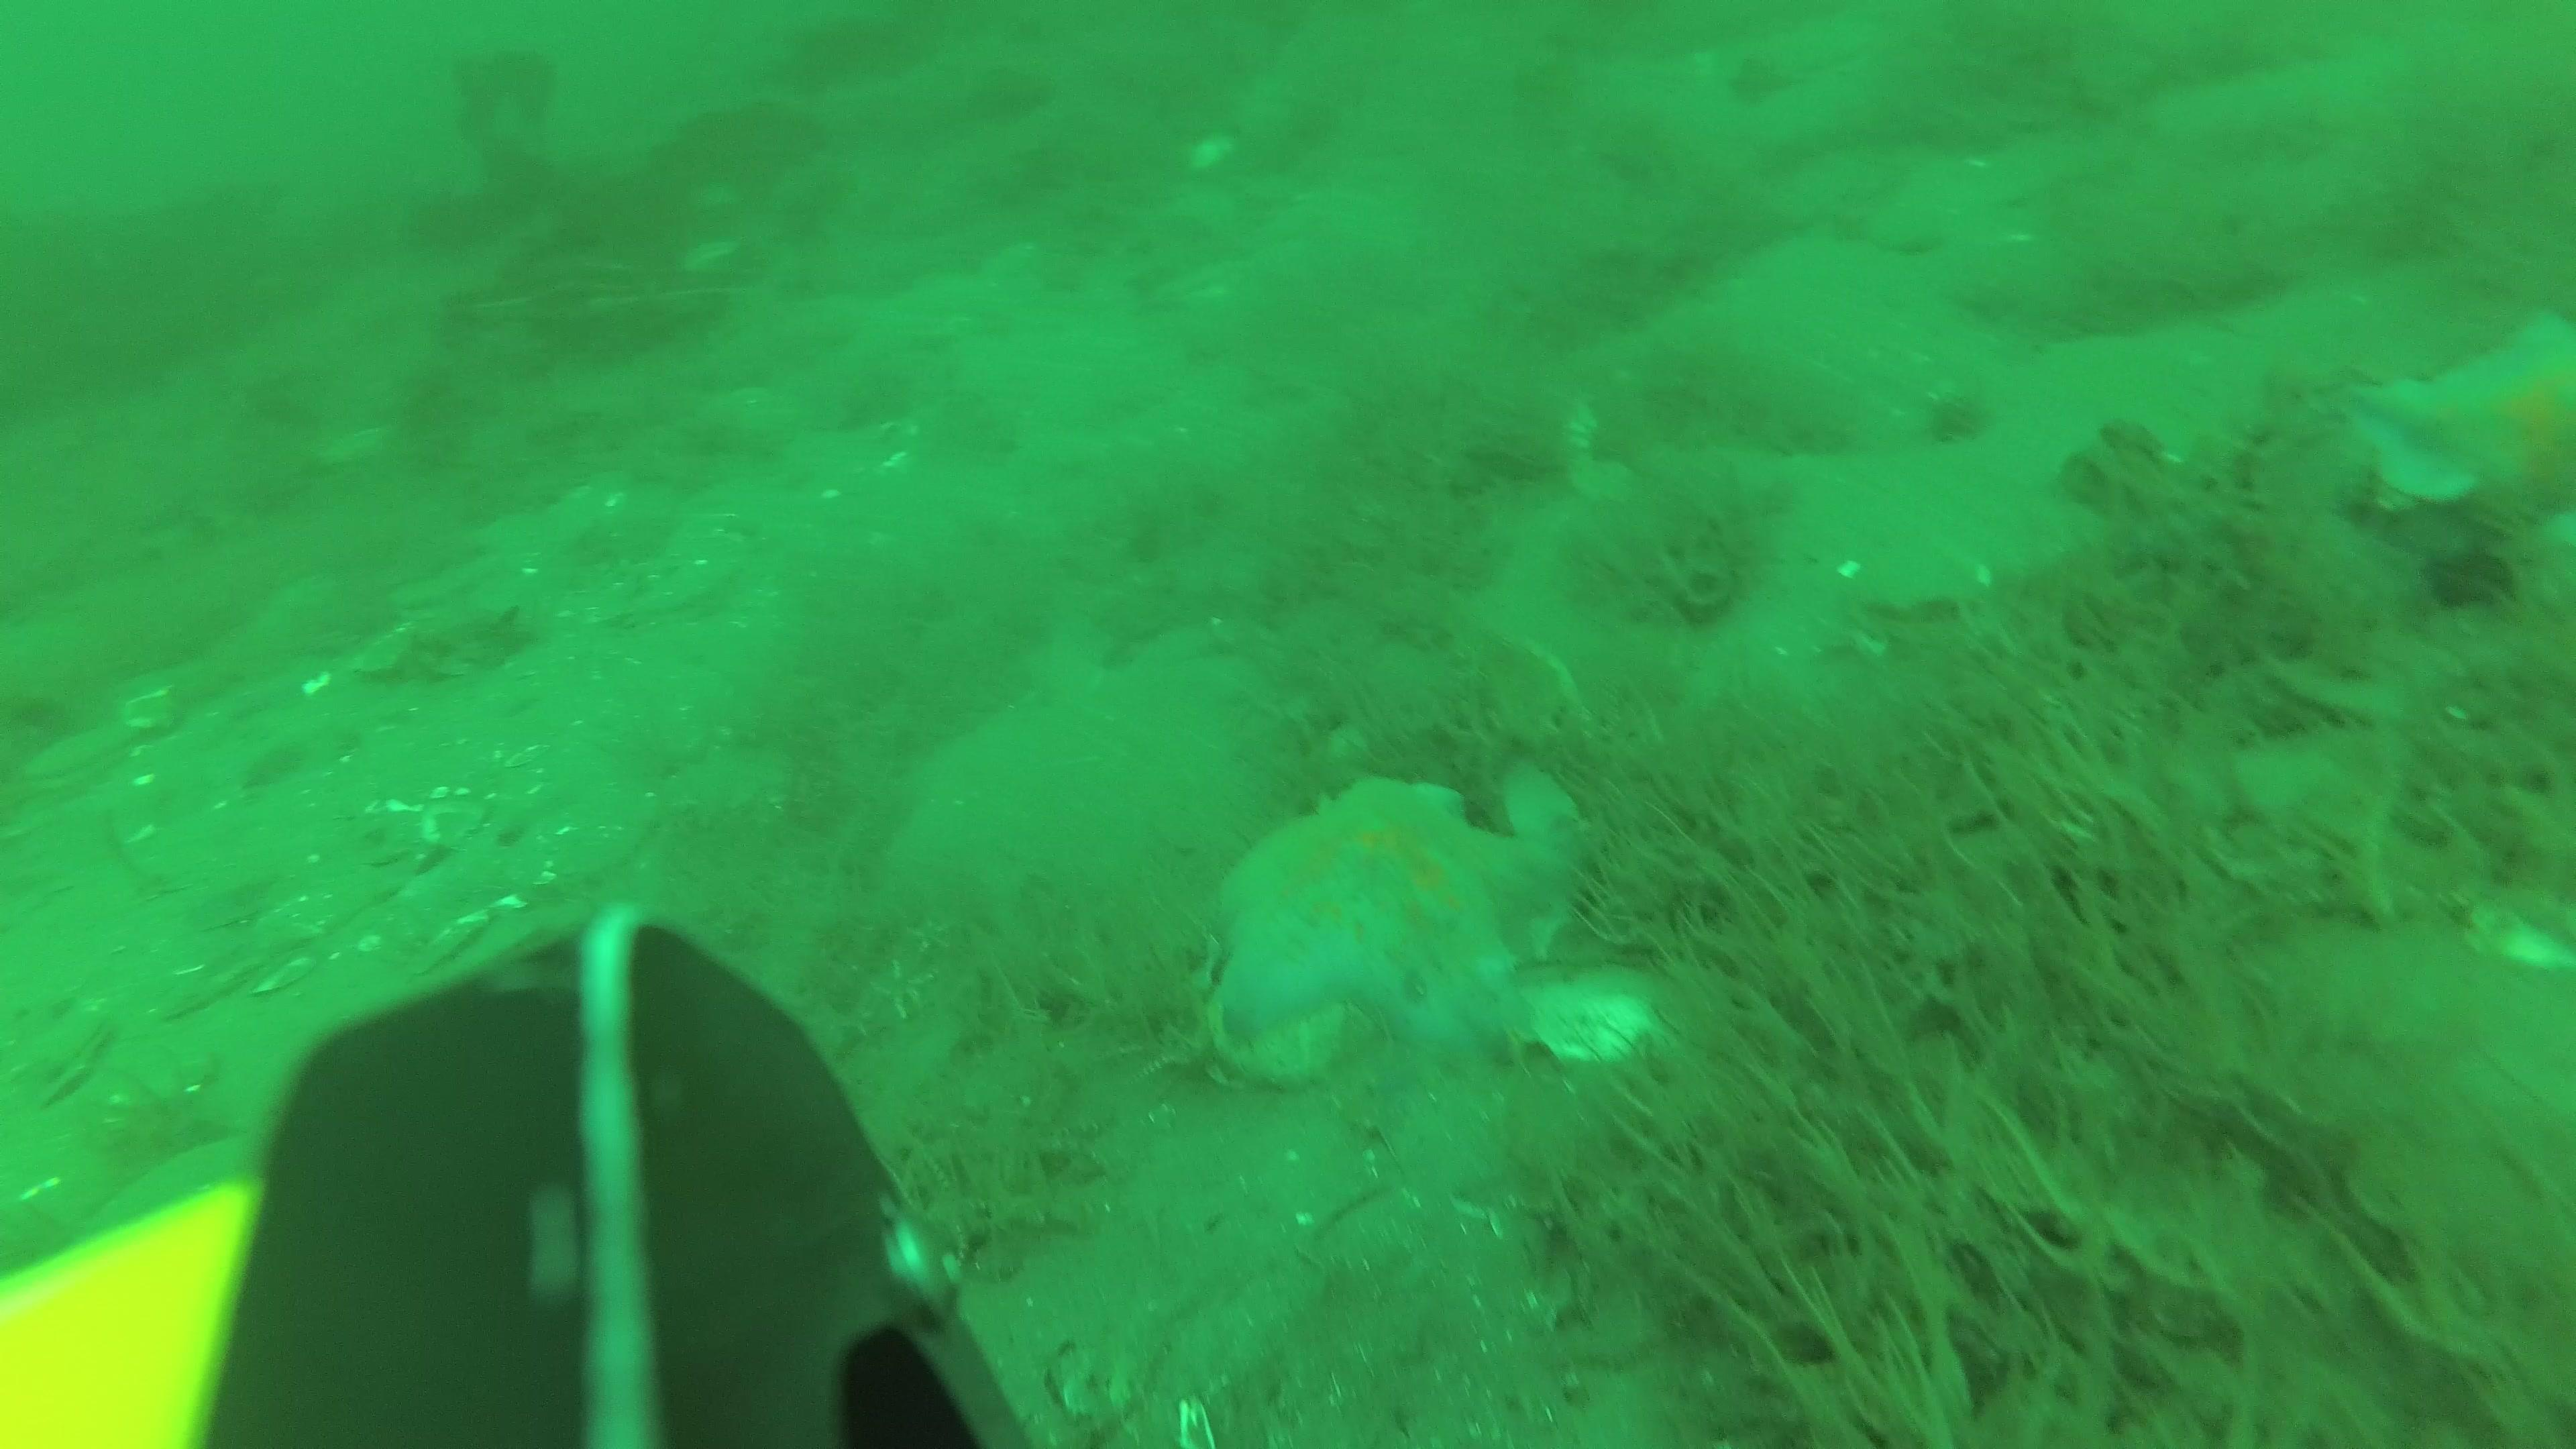scallop: (1532, 970, 1663, 1069), (30, 722, 129, 800), (159, 945, 260, 1019), (48, 1007, 119, 1097)
starfish: (1219, 782, 1591, 1065), (2357, 310, 2576, 533)
